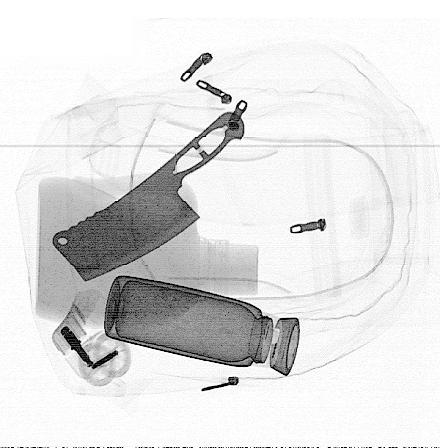Knife: (52, 111, 246, 284)
